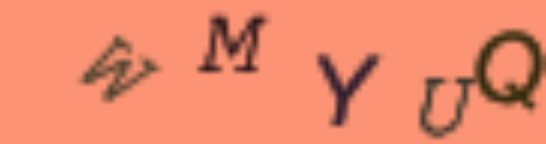M: (195, 12, 272, 76)
Q: (475, 26, 546, 113)
U: (413, 73, 476, 142)
W: (78, 33, 163, 104)
Y: (310, 50, 388, 130)
